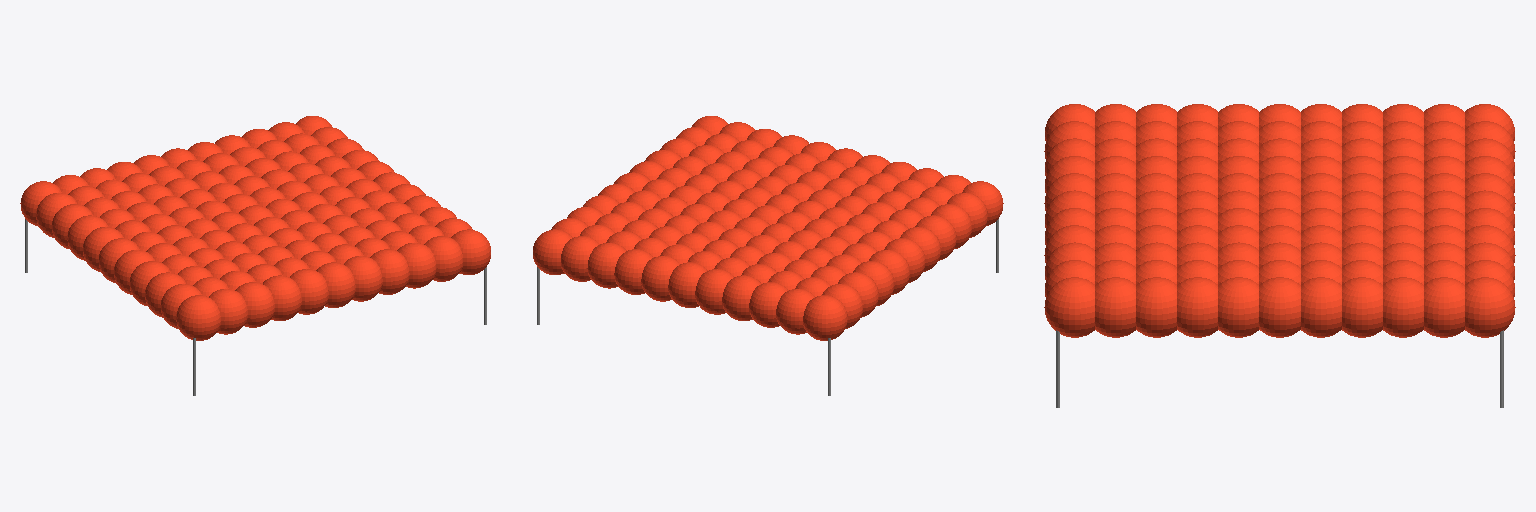
--- What the picture shows (computed from the rendered views, not written in the file) ---
Views: 3 orthographic renders of the robot side by side, from view 1: azimuth 30°, elevation 25°; view 2: azimuth 150°, elevation 25°; view 3: azimuth 270°, elevation 25°.
Model box with 3 links and 2 joints (2 fixed), rooted at link1, posed all joints at 0.
Visible links, largest first — view 1: link3; view 2: link3; view 3: link3, link2.
Boxes of the visible links, left/top/right/bottom form: link3: left=20, top=116, right=490, bottom=340; link3: left=533, top=116, right=1003, bottom=340; link3: left=1044, top=104, right=1515, bottom=337; link2: left=1056, top=330, right=1503, bottom=407.
Size in the robot's own frame: 1.15 by 1.15 by 0.324 metres.
Geometry: primitives only (box / cylinder / sphere), no mesh files.

robot.urdf — box:
<?xml version="1.0" ?>
<robot name="box">

    <material name="panda_white">
        <color rgba="1. 0.87 0.68 1."/>
    </material>

    <material name="metal">
        <color rgba="0.6 0.6 0.6 1."/>
    </material>

    <material name="orangered">
        <color rgba="1 0.34 0.2 0.5"/>
    </material>


    <link name="link1">
        <inertial>
            <origin rpy="0 0 0" xyz="0 0 0"/>
            <mass value=".0"/>
            <inertia ixx="0" ixy="0" ixz="0" iyy="0" iyz="0" izz="0"/>
        </inertial>

        <visual>
            <origin rpy="0 0 0" xyz="0.0 0 0.25"/>
            <geometry>
                <box size="1.1 1.1 0.005"/>
            </geometry>
            <material name="panda_white"/>
        </visual>
    </link>

    <link name="link2">
        <inertial>
            <origin rpy="0 0 0" xyz="0 0 0"/>
            <mass value=".0"/>
            <inertia ixx="0" ixy="0" ixz="0" iyy="0" iyz="0" izz="0"/>
        </inertial>

        <visual>
            <origin rpy="0 0 0" xyz="0.54 0.54 0.125"/>
            <geometry>
                <cylinder radius="0.005" length="0.25"/>
            </geometry>
            <material name="metal"/>
        </visual>

        <visual>
            <origin rpy="0 0 0" xyz="0.54 -0.54 0.125"/>
            <geometry>
                <cylinder radius="0.005" length="0.25"/>
            </geometry>
            <material name="metal"/>
        </visual>

        <visual>
            <origin rpy="0 0 0" xyz="-0.54 0.54 0.125"/>
            <geometry>
                <cylinder radius="0.005" length="0.25"/>
            </geometry>
            <material name="metal"/>
        </visual>

        <visual>
            <origin rpy="0 0 0" xyz="-0.54 -0.54 0.125"/>
            <geometry>
                <cylinder radius="0.005" length="0.25"/>
            </geometry>
            <material name="metal"/>
        </visual>

    </link>
    

    <link name="link3">
        <inertial>
            <origin rpy="0 0 0" xyz="0 0 0"/>
            <mass value=".0"/>
            <inertia ixx="0" ixy="0" ixz="0" iyy="0" iyz="0" izz="0"/>
        </inertial>

        <visual>
            <origin rpy="0 0 0" xyz="-0.5 -0.5 0.25"/>
            <geometry>
                <sphere radius="0.074"/>
            </geometry>
            <material name="orangered"/>
        </visual>

        <visual>
            <origin rpy="0 0 0" xyz="-0.4 -0.5 0.25"/>
            <geometry>
                <sphere radius="0.074"/>
            </geometry>
            <material name="orangered"/>
        </visual>

        <visual>
            <origin rpy="0 0 0" xyz="-0.3 -0.5 0.25"/>
            <geometry>
                <sphere radius="0.074"/>
            </geometry>
            <material name="orangered"/>
        </visual>

        <visual>
            <origin rpy="0 0 0" xyz="-0.2 -0.5 0.25"/>
            <geometry>
                <sphere radius="0.074"/>
            </geometry>
            <material name="orangered"/>
        </visual>

        <visual>
            <origin rpy="0 0 0" xyz="-0.1 -0.5 0.25"/>
            <geometry>
                <sphere radius="0.074"/>
            </geometry>
            <material name="orangered"/>
        </visual>

        <visual>
            <origin rpy="0 0 0" xyz="0.0 -0.5 0.25"/>
            <geometry>
                <sphere radius="0.074"/>
            </geometry>
            <material name="orangered"/>
        </visual>

        <visual>
            <origin rpy="0 0 0" xyz="0.1 -0.5 0.25"/>
            <geometry>
                <sphere radius="0.074"/>
            </geometry>
            <material name="orangered"/>
        </visual>

        <visual>
            <origin rpy="0 0 0" xyz="0.2 -0.5 0.25"/>
            <geometry>
                <sphere radius="0.074"/>
            </geometry>
            <material name="orangered"/>
        </visual>

        <visual>
            <origin rpy="0 0 0" xyz="0.3 -0.5 0.25"/>
            <geometry>
                <sphere radius="0.074"/>
            </geometry>
            <material name="orangered"/>
        </visual>

        <visual>
            <origin rpy="0 0 0" xyz="0.4 -0.5 0.25"/>
            <geometry>
                <sphere radius="0.074"/>
            </geometry>
            <material name="orangered"/>
        </visual>

        <visual>
            <origin rpy="0 0 0" xyz="0.5 -0.5 0.25"/>
            <geometry>
                <sphere radius="0.074"/>
            </geometry>
            <material name="orangered"/>
        </visual>

        <visual>
            <origin rpy="0 0 0" xyz="-0.5 -0.4 0.25"/>
            <geometry>
                <sphere radius="0.074"/>
            </geometry>
            <material name="orangered"/>
        </visual>

        <visual>
            <origin rpy="0 0 0" xyz="-0.4 -0.4 0.25"/>
            <geometry>
                <sphere radius="0.074"/>
            </geometry>
            <material name="orangered"/>
        </visual>

        <visual>
            <origin rpy="0 0 0" xyz="-0.3 -0.4 0.25"/>
            <geometry>
                <sphere radius="0.074"/>
            </geometry>
            <material name="orangered"/>
        </visual>

        <visual>
            <origin rpy="0 0 0" xyz="-0.2 -0.4 0.25"/>
            <geometry>
                <sphere radius="0.074"/>
            </geometry>
            <material name="orangered"/>
        </visual>

        <visual>
            <origin rpy="0 0 0" xyz="-0.1 -0.4 0.25"/>
            <geometry>
                <sphere radius="0.074"/>
            </geometry>
            <material name="orangered"/>
        </visual>

        <visual>
            <origin rpy="0 0 0" xyz="0.0 -0.4 0.25"/>
            <geometry>
                <sphere radius="0.074"/>
            </geometry>
            <material name="orangered"/>
        </visual>

        <visual>
            <origin rpy="0 0 0" xyz="0.1 -0.4 0.25"/>
            <geometry>
                <sphere radius="0.074"/>
            </geometry>
            <material name="orangered"/>
        </visual>

        <visual>
            <origin rpy="0 0 0" xyz="0.2 -0.4 0.25"/>
            <geometry>
                <sphere radius="0.074"/>
            </geometry>
            <material name="orangered"/>
        </visual>

        <visual>
            <origin rpy="0 0 0" xyz="0.3 -0.4 0.25"/>
            <geometry>
                <sphere radius="0.074"/>
            </geometry>
            <material name="orangered"/>
        </visual>

        <visual>
            <origin rpy="0 0 0" xyz="0.4 -0.4 0.25"/>
            <geometry>
                <sphere radius="0.074"/>
            </geometry>
            <material name="orangered"/>
        </visual>

        <visual>
            <origin rpy="0 0 0" xyz="0.5 -0.4 0.25"/>
            <geometry>
                <sphere radius="0.074"/>
            </geometry>
            <material name="orangered"/>
        </visual>

        <visual>
            <origin rpy="0 0 0" xyz="-0.5 -0.3 0.25"/>
            <geometry>
                <sphere radius="0.074"/>
            </geometry>
            <material name="orangered"/>
        </visual>

        <visual>
            <origin rpy="0 0 0" xyz="-0.4 -0.3 0.25"/>
            <geometry>
                <sphere radius="0.074"/>
            </geometry>
            <material name="orangered"/>
        </visual>

        <visual>
            <origin rpy="0 0 0" xyz="-0.3 -0.3 0.25"/>
            <geometry>
                <sphere radius="0.074"/>
            </geometry>
            <material name="orangered"/>
        </visual>

        <visual>
            <origin rpy="0 0 0" xyz="-0.2 -0.3 0.25"/>
            <geometry>
                <sphere radius="0.074"/>
            </geometry>
            <material name="orangered"/>
        </visual>

        <visual>
            <origin rpy="0 0 0" xyz="-0.1 -0.3 0.25"/>
            <geometry>
                <sphere radius="0.074"/>
            </geometry>
            <material name="orangered"/>
        </visual>

        <visual>
            <origin rpy="0 0 0" xyz="0.0 -0.3 0.25"/>
            <geometry>
                <sphere radius="0.074"/>
            </geometry>
            <material name="orangered"/>
        </visual>

        <visual>
            <origin rpy="0 0 0" xyz="0.1 -0.3 0.25"/>
            <geometry>
                <sphere radius="0.074"/>
            </geometry>
            <material name="orangered"/>
        </visual>

        <visual>
            <origin rpy="0 0 0" xyz="0.2 -0.3 0.25"/>
            <geometry>
                <sphere radius="0.074"/>
            </geometry>
            <material name="orangered"/>
        </visual>

        <visual>
            <origin rpy="0 0 0" xyz="0.3 -0.3 0.25"/>
            <geometry>
                <sphere radius="0.074"/>
            </geometry>
            <material name="orangered"/>
        </visual>

        <visual>
            <origin rpy="0 0 0" xyz="0.4 -0.3 0.25"/>
            <geometry>
                <sphere radius="0.074"/>
            </geometry>
            <material name="orangered"/>
        </visual>

        <visual>
            <origin rpy="0 0 0" xyz="0.5 -0.3 0.25"/>
            <geometry>
                <sphere radius="0.074"/>
            </geometry>
            <material name="orangered"/>
        </visual>

        <visual>
            <origin rpy="0 0 0" xyz="-0.5 -0.2 0.25"/>
            <geometry>
                <sphere radius="0.074"/>
            </geometry>
            <material name="orangered"/>
        </visual>

        <visual>
            <origin rpy="0 0 0" xyz="-0.4 -0.2 0.25"/>
            <geometry>
                <sphere radius="0.074"/>
            </geometry>
            <material name="orangered"/>
        </visual>

        <visual>
            <origin rpy="0 0 0" xyz="-0.3 -0.2 0.25"/>
            <geometry>
                <sphere radius="0.074"/>
            </geometry>
            <material name="orangered"/>
        </visual>

        <visual>
            <origin rpy="0 0 0" xyz="-0.2 -0.2 0.25"/>
            <geometry>
                <sphere radius="0.074"/>
            </geometry>
            <material name="orangered"/>
        </visual>

        <visual>
            <origin rpy="0 0 0" xyz="-0.1 -0.2 0.25"/>
            <geometry>
                <sphere radius="0.074"/>
            </geometry>
            <material name="orangered"/>
        </visual>

        <visual>
            <origin rpy="0 0 0" xyz="0.0 -0.2 0.25"/>
            <geometry>
                <sphere radius="0.074"/>
            </geometry>
            <material name="orangered"/>
        </visual>

        <visual>
            <origin rpy="0 0 0" xyz="0.1 -0.2 0.25"/>
            <geometry>
                <sphere radius="0.074"/>
            </geometry>
            <material name="orangered"/>
        </visual>

        <visual>
            <origin rpy="0 0 0" xyz="0.2 -0.2 0.25"/>
            <geometry>
                <sphere radius="0.074"/>
            </geometry>
            <material name="orangered"/>
        </visual>

        <visual>
            <origin rpy="0 0 0" xyz="0.3 -0.2 0.25"/>
            <geometry>
                <sphere radius="0.074"/>
            </geometry>
            <material name="orangered"/>
        </visual>

        <visual>
            <origin rpy="0 0 0" xyz="0.4 -0.2 0.25"/>
            <geometry>
                <sphere radius="0.074"/>
            </geometry>
            <material name="orangered"/>
        </visual>

        <visual>
            <origin rpy="0 0 0" xyz="0.5 -0.2 0.25"/>
            <geometry>
                <sphere radius="0.074"/>
            </geometry>
            <material name="orangered"/>
        </visual>

        <visual>
            <origin rpy="0 0 0" xyz="-0.5 -0.1 0.25"/>
            <geometry>
                <sphere radius="0.074"/>
            </geometry>
            <material name="orangered"/>
        </visual>

        <visual>
            <origin rpy="0 0 0" xyz="-0.4 -0.1 0.25"/>
            <geometry>
                <sphere radius="0.074"/>
            </geometry>
            <material name="orangered"/>
        </visual>

        <visual>
            <origin rpy="0 0 0" xyz="-0.3 -0.1 0.25"/>
            <geometry>
                <sphere radius="0.074"/>
            </geometry>
            <material name="orangered"/>
        </visual>

        <visual>
            <origin rpy="0 0 0" xyz="-0.2 -0.1 0.25"/>
            <geometry>
                <sphere radius="0.074"/>
            </geometry>
            <material name="orangered"/>
        </visual>

        <visual>
            <origin rpy="0 0 0" xyz="-0.1 -0.1 0.25"/>
            <geometry>
                <sphere radius="0.074"/>
            </geometry>
            <material name="orangered"/>
        </visual>

        <visual>
            <origin rpy="0 0 0" xyz="0.0 -0.1 0.25"/>
            <geometry>
                <sphere radius="0.074"/>
            </geometry>
            <material name="orangered"/>
        </visual>

        <visual>
            <origin rpy="0 0 0" xyz="0.1 -0.1 0.25"/>
            <geometry>
                <sphere radius="0.074"/>
            </geometry>
            <material name="orangered"/>
        </visual>

        <visual>
            <origin rpy="0 0 0" xyz="0.2 -0.1 0.25"/>
            <geometry>
                <sphere radius="0.074"/>
            </geometry>
            <material name="orangered"/>
        </visual>

        <visual>
            <origin rpy="0 0 0" xyz="0.3 -0.1 0.25"/>
            <geometry>
                <sphere radius="0.074"/>
            </geometry>
            <material name="orangered"/>
        </visual>

        <visual>
            <origin rpy="0 0 0" xyz="0.4 -0.1 0.25"/>
            <geometry>
                <sphere radius="0.074"/>
            </geometry>
            <material name="orangered"/>
        </visual>

        <visual>
            <origin rpy="0 0 0" xyz="0.5 -0.1 0.25"/>
            <geometry>
                <sphere radius="0.074"/>
            </geometry>
            <material name="orangered"/>
        </visual>

        <visual>
            <origin rpy="0 0 0" xyz="-0.5 0.0 0.25"/>
            <geometry>
                <sphere radius="0.074"/>
            </geometry>
            <material name="orangered"/>
        </visual>

        <visual>
            <origin rpy="0 0 0" xyz="-0.4 0.0 0.25"/>
            <geometry>
                <sphere radius="0.074"/>
            </geometry>
            <material name="orangered"/>
        </visual>

        <visual>
            <origin rpy="0 0 0" xyz="-0.3 0.0 0.25"/>
            <geometry>
                <sphere radius="0.074"/>
            </geometry>
            <material name="orangered"/>
        </visual>

        <visual>
            <origin rpy="0 0 0" xyz="-0.2 0.0 0.25"/>
            <geometry>
                <sphere radius="0.074"/>
            </geometry>
            <material name="orangered"/>
        </visual>

        <visual>
            <origin rpy="0 0 0" xyz="-0.1 0.0 0.25"/>
            <geometry>
                <sphere radius="0.074"/>
            </geometry>
            <material name="orangered"/>
        </visual>

        <visual>
            <origin rpy="0 0 0" xyz="0.0 0.0 0.25"/>
            <geometry>
                <sphere radius="0.074"/>
            </geometry>
            <material name="orangered"/>
        </visual>

        <visual>
            <origin rpy="0 0 0" xyz="0.1 0.0 0.25"/>
            <geometry>
                <sphere radius="0.074"/>
            </geometry>
            <material name="orangered"/>
        </visual>

        <visual>
            <origin rpy="0 0 0" xyz="0.2 0.0 0.25"/>
            <geometry>
                <sphere radius="0.074"/>
            </geometry>
            <material name="orangered"/>
        </visual>

        <visual>
            <origin rpy="0 0 0" xyz="0.3 0.0 0.25"/>
            <geometry>
                <sphere radius="0.074"/>
            </geometry>
            <material name="orangered"/>
        </visual>

        <visual>
            <origin rpy="0 0 0" xyz="0.4 0.0 0.25"/>
            <geometry>
                <sphere radius="0.074"/>
            </geometry>
            <material name="orangered"/>
        </visual>

        <visual>
            <origin rpy="0 0 0" xyz="0.5 0.0 0.25"/>
            <geometry>
                <sphere radius="0.074"/>
            </geometry>
            <material name="orangered"/>
        </visual>

        <visual>
            <origin rpy="0 0 0" xyz="-0.5 0.1 0.25"/>
            <geometry>
                <sphere radius="0.074"/>
            </geometry>
            <material name="orangered"/>
        </visual>

        <visual>
            <origin rpy="0 0 0" xyz="-0.4 0.1 0.25"/>
            <geometry>
                <sphere radius="0.074"/>
            </geometry>
            <material name="orangered"/>
        </visual>

        <visual>
            <origin rpy="0 0 0" xyz="-0.3 0.1 0.25"/>
            <geometry>
                <sphere radius="0.074"/>
            </geometry>
            <material name="orangered"/>
        </visual>

        <visual>
            <origin rpy="0 0 0" xyz="-0.2 0.1 0.25"/>
            <geometry>
                <sphere radius="0.074"/>
            </geometry>
            <material name="orangered"/>
        </visual>

        <visual>
            <origin rpy="0 0 0" xyz="-0.1 0.1 0.25"/>
            <geometry>
                <sphere radius="0.074"/>
            </geometry>
            <material name="orangered"/>
        </visual>

        <visual>
            <origin rpy="0 0 0" xyz="0.0 0.1 0.25"/>
            <geometry>
                <sphere radius="0.074"/>
            </geometry>
            <material name="orangered"/>
        </visual>

        <visual>
            <origin rpy="0 0 0" xyz="0.1 0.1 0.25"/>
            <geometry>
                <sphere radius="0.074"/>
            </geometry>
            <material name="orangered"/>
        </visual>

        <visual>
            <origin rpy="0 0 0" xyz="0.2 0.1 0.25"/>
            <geometry>
                <sphere radius="0.074"/>
            </geometry>
            <material name="orangered"/>
        </visual>

        <visual>
            <origin rpy="0 0 0" xyz="0.3 0.1 0.25"/>
            <geometry>
                <sphere radius="0.074"/>
            </geometry>
            <material name="orangered"/>
        </visual>

        <visual>
            <origin rpy="0 0 0" xyz="0.4 0.1 0.25"/>
            <geometry>
                <sphere radius="0.074"/>
            </geometry>
            <material name="orangered"/>
        </visual>

        <visual>
            <origin rpy="0 0 0" xyz="0.5 0.1 0.25"/>
            <geometry>
                <sphere radius="0.074"/>
            </geometry>
            <material name="orangered"/>
        </visual>

        <visual>
            <origin rpy="0 0 0" xyz="-0.5 0.2 0.25"/>
            <geometry>
                <sphere radius="0.074"/>
            </geometry>
            <material name="orangered"/>
        </visual>

        <visual>
            <origin rpy="0 0 0" xyz="-0.4 0.2 0.25"/>
            <geometry>
                <sphere radius="0.074"/>
            </geometry>
            <material name="orangered"/>
        </visual>

        <visual>
            <origin rpy="0 0 0" xyz="-0.3 0.2 0.25"/>
            <geometry>
                <sphere radius="0.074"/>
            </geometry>
            <material name="orangered"/>
        </visual>

        <visual>
            <origin rpy="0 0 0" xyz="-0.2 0.2 0.25"/>
            <geometry>
                <sphere radius="0.074"/>
            </geometry>
            <material name="orangered"/>
        </visual>

        <visual>
            <origin rpy="0 0 0" xyz="-0.1 0.2 0.25"/>
            <geometry>
                <sphere radius="0.074"/>
            </geometry>
            <material name="orangered"/>
        </visual>

        <visual>
            <origin rpy="0 0 0" xyz="0.0 0.2 0.25"/>
            <geometry>
                <sphere radius="0.074"/>
            </geometry>
            <material name="orangered"/>
        </visual>

        <visual>
            <origin rpy="0 0 0" xyz="0.1 0.2 0.25"/>
            <geometry>
                <sphere radius="0.074"/>
            </geometry>
            <material name="orangered"/>
        </visual>

        <visual>
            <origin rpy="0 0 0" xyz="0.2 0.2 0.25"/>
            <geometry>
                <sphere radius="0.074"/>
            </geometry>
            <material name="orangered"/>
        </visual>

        <visual>
            <origin rpy="0 0 0" xyz="0.3 0.2 0.25"/>
            <geometry>
                <sphere radius="0.074"/>
            </geometry>
            <material name="orangered"/>
        </visual>

        <visual>
            <origin rpy="0 0 0" xyz="0.4 0.2 0.25"/>
            <geometry>
                <sphere radius="0.074"/>
            </geometry>
            <material name="orangered"/>
        </visual>

        <visual>
            <origin rpy="0 0 0" xyz="0.5 0.2 0.25"/>
            <geometry>
                <sphere radius="0.074"/>
            </geometry>
            <material name="orangered"/>
        </visual>

        <visual>
            <origin rpy="0 0 0" xyz="-0.5 0.3 0.25"/>
            <geometry>
                <sphere radius="0.074"/>
            </geometry>
            <material name="orangered"/>
        </visual>

        <visual>
            <origin rpy="0 0 0" xyz="-0.4 0.3 0.25"/>
            <geometry>
                <sphere radius="0.074"/>
            </geometry>
            <material name="orangered"/>
        </visual>

        <visual>
            <origin rpy="0 0 0" xyz="-0.3 0.3 0.25"/>
            <geometry>
                <sphere radius="0.074"/>
            </geometry>
            <material name="orangered"/>
        </visual>

        <visual>
            <origin rpy="0 0 0" xyz="-0.2 0.3 0.25"/>
            <geometry>
                <sphere radius="0.074"/>
            </geometry>
            <material name="orangered"/>
        </visual>

        <visual>
            <origin rpy="0 0 0" xyz="-0.1 0.3 0.25"/>
            <geometry>
                <sphere radius="0.074"/>
            </geometry>
            <material name="orangered"/>
        </visual>

        <visual>
            <origin rpy="0 0 0" xyz="0.0 0.3 0.25"/>
            <geometry>
                <sphere radius="0.074"/>
            </geometry>
            <material name="orangered"/>
        </visual>

        <visual>
            <origin rpy="0 0 0" xyz="0.1 0.3 0.25"/>
            <geometry>
                <sphere radius="0.074"/>
            </geometry>
            <material name="orangered"/>
        </visual>

        <visual>
            <origin rpy="0 0 0" xyz="0.2 0.3 0.25"/>
            <geometry>
                <sphere radius="0.074"/>
            </geometry>
            <material name="orangered"/>
        </visual>

        <visual>
            <origin rpy="0 0 0" xyz="0.3 0.3 0.25"/>
            <geometry>
                <sphere radius="0.074"/>
            </geometry>
            <material name="orangered"/>
        </visual>

        <visual>
            <origin rpy="0 0 0" xyz="0.4 0.3 0.25"/>
            <geometry>
                <sphere radius="0.074"/>
            </geometry>
            <material name="orangered"/>
        </visual>

        <visual>
            <origin rpy="0 0 0" xyz="0.5 0.3 0.25"/>
            <geometry>
                <sphere radius="0.074"/>
            </geometry>
            <material name="orangered"/>
        </visual>

        <visual>
            <origin rpy="0 0 0" xyz="-0.5 0.4 0.25"/>
            <geometry>
                <sphere radius="0.074"/>
            </geometry>
            <material name="orangered"/>
        </visual>

        <visual>
            <origin rpy="0 0 0" xyz="-0.4 0.4 0.25"/>
            <geometry>
                <sphere radius="0.074"/>
            </geometry>
            <material name="orangered"/>
        </visual>

        <visual>
            <origin rpy="0 0 0" xyz="-0.3 0.4 0.25"/>
            <geometry>
                <sphere radius="0.074"/>
            </geometry>
            <material name="orangered"/>
        </visual>

        <visual>
            <origin rpy="0 0 0" xyz="-0.2 0.4 0.25"/>
            <geometry>
                <sphere radius="0.074"/>
            </geometry>
            <material name="orangered"/>
        </visual>

        <visual>
            <origin rpy="0 0 0" xyz="-0.1 0.4 0.25"/>
            <geometry>
                <sphere radius="0.074"/>
            </geometry>
            <material name="orangered"/>
        </visual>

        <visual>
            <origin rpy="0 0 0" xyz="0.0 0.4 0.25"/>
            <geometry>
                <sphere radius="0.074"/>
            </geometry>
            <material name="orangered"/>
        </visual>

        <visual>
            <origin rpy="0 0 0" xyz="0.1 0.4 0.25"/>
            <geometry>
                <sphere radius="0.074"/>
            </geometry>
            <material name="orangered"/>
        </visual>

        <visual>
            <origin rpy="0 0 0" xyz="0.2 0.4 0.25"/>
            <geometry>
                <sphere radius="0.074"/>
            </geometry>
            <material name="orangered"/>
        </visual>

        <visual>
            <origin rpy="0 0 0" xyz="0.3 0.4 0.25"/>
            <geometry>
                <sphere radius="0.074"/>
            </geometry>
            <material name="orangered"/>
        </visual>

        <visual>
            <origin rpy="0 0 0" xyz="0.4 0.4 0.25"/>
            <geometry>
                <sphere radius="0.074"/>
            </geometry>
            <material name="orangered"/>
        </visual>

        <visual>
            <origin rpy="0 0 0" xyz="0.5 0.4 0.25"/>
            <geometry>
                <sphere radius="0.074"/>
            </geometry>
            <material name="orangered"/>
        </visual>

        <visual>
            <origin rpy="0 0 0" xyz="-0.5 0.5 0.25"/>
            <geometry>
                <sphere radius="0.074"/>
            </geometry>
            <material name="orangered"/>
        </visual>

        <visual>
            <origin rpy="0 0 0" xyz="-0.4 0.5 0.25"/>
            <geometry>
                <sphere radius="0.074"/>
            </geometry>
            <material name="orangered"/>
        </visual>

        <visual>
            <origin rpy="0 0 0" xyz="-0.3 0.5 0.25"/>
            <geometry>
                <sphere radius="0.074"/>
            </geometry>
            <material name="orangered"/>
        </visual>

        <visual>
            <origin rpy="0 0 0" xyz="-0.2 0.5 0.25"/>
            <geometry>
                <sphere radius="0.074"/>
            </geometry>
            <material name="orangered"/>
        </visual>

        <visual>
            <origin rpy="0 0 0" xyz="-0.1 0.5 0.25"/>
            <geometry>
                <sphere radius="0.074"/>
            </geometry>
            <material name="orangered"/>
        </visual>

        <visual>
            <origin rpy="0 0 0" xyz="0.0 0.5 0.25"/>
            <geometry>
                <sphere radius="0.074"/>
            </geometry>
            <material name="orangered"/>
        </visual>

        <visual>
            <origin rpy="0 0 0" xyz="0.1 0.5 0.25"/>
            <geometry>
                <sphere radius="0.074"/>
            </geometry>
            <material name="orangered"/>
        </visual>

        <visual>
            <origin rpy="0 0 0" xyz="0.2 0.5 0.25"/>
            <geometry>
                <sphere radius="0.074"/>
            </geometry>
            <material name="orangered"/>
        </visual>

        <visual>
            <origin rpy="0 0 0" xyz="0.3 0.5 0.25"/>
            <geometry>
                <sphere radius="0.074"/>
            </geometry>
            <material name="orangered"/>
        </visual>

        <visual>
            <origin rpy="0 0 0" xyz="0.4 0.5 0.25"/>
            <geometry>
                <sphere radius="0.074"/>
            </geometry>
            <material name="orangered"/>
        </visual>

        <visual>
            <origin rpy="0 0 0" xyz="0.5 0.5 0.25"/>
            <geometry>
                <sphere radius="0.074"/>
            </geometry>
            <material name="orangered"/>
        </visual>

    </link>
    

    <joint name="fixed_joint" type="fixed">
        <parent link="link1"/>
        <child link="link2"/>
        <origin xyz="0 0 0" rpy="0 0 0"/>
    </joint>

    <joint name="fixed_joint2" type="fixed">
        <parent link="link1"/>
        <child link="link3"/>
        <origin xyz="0 0 0" rpy="0 0 0"/>
    </joint>
    

</robot>
